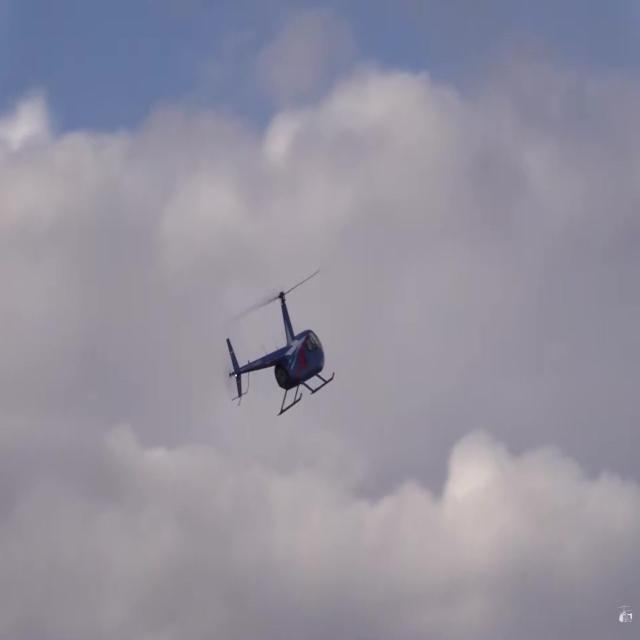CIV_HELO: (226, 290, 336, 418)
